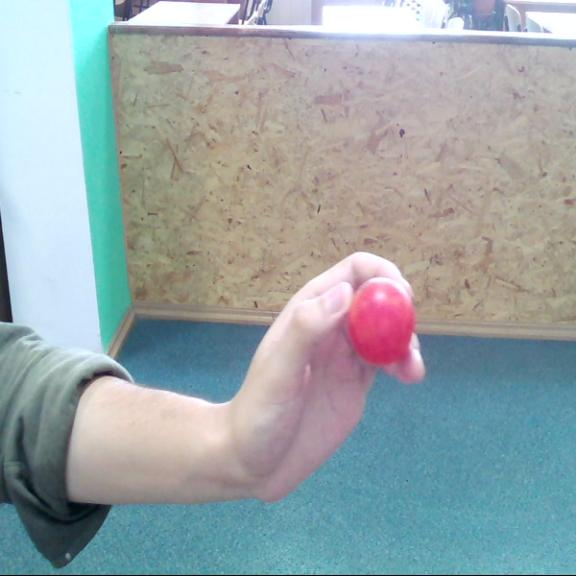ball: (342, 278, 416, 362)
